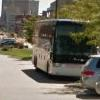Bus: (28, 16, 83, 79)
